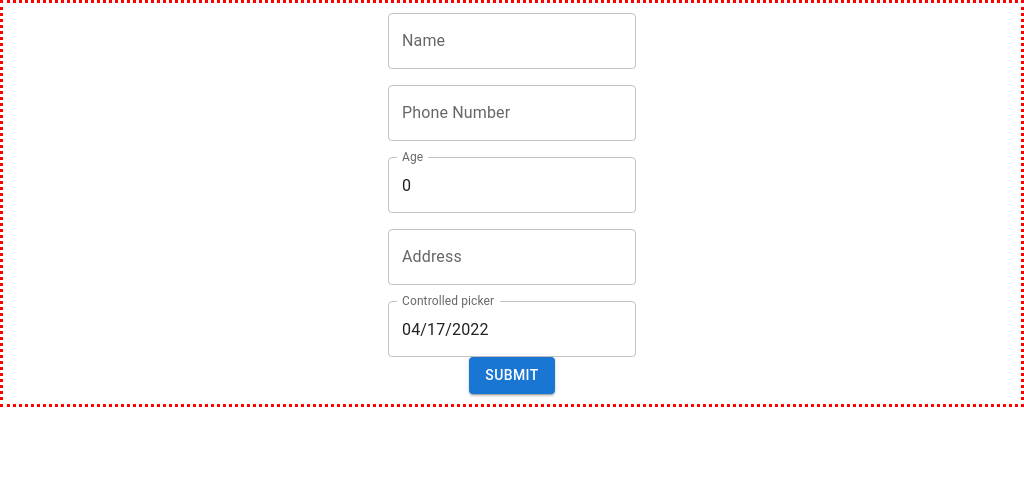
Test case: MyForm › should display validation errors when input value is invalid
This screenshot has width=1024, height=492.
In the field labelled "Name": (512,41) 388,13 -> 636,69, type "df"
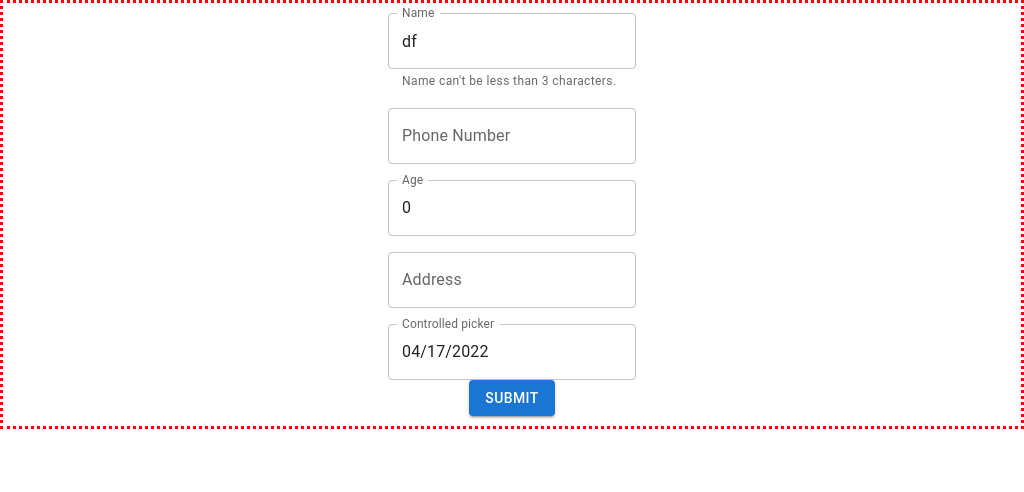
Expected: the text "Name can't be less than 3 characters." is shown, 402,72 -> 622,92
In the field labelled "Phone Number": (512,136) 388,108 -> 636,164, type "77878888"
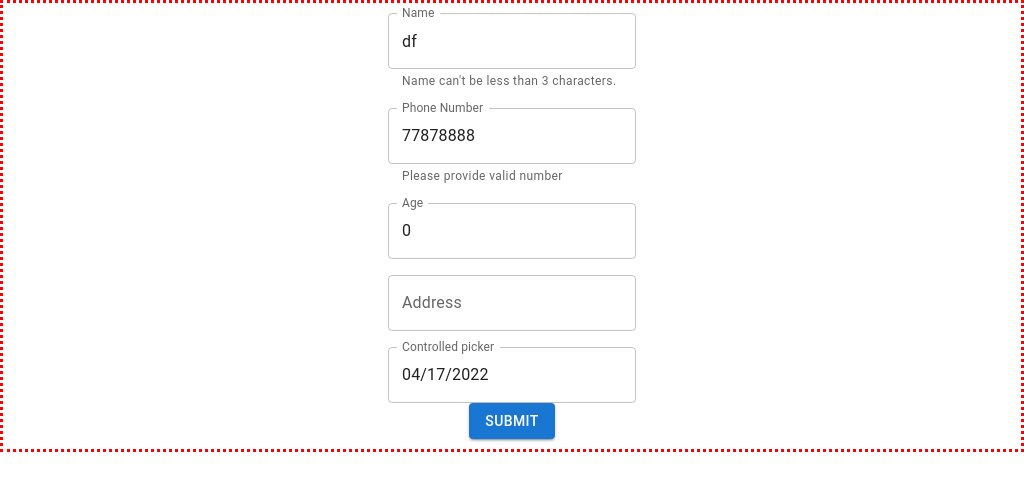
Expected: the text "Please provide valid number" is shown, 402,169 -> 563,183
Replace the text in the field labelled "Age" with "-2": (512,231) 388,203 -> 636,259
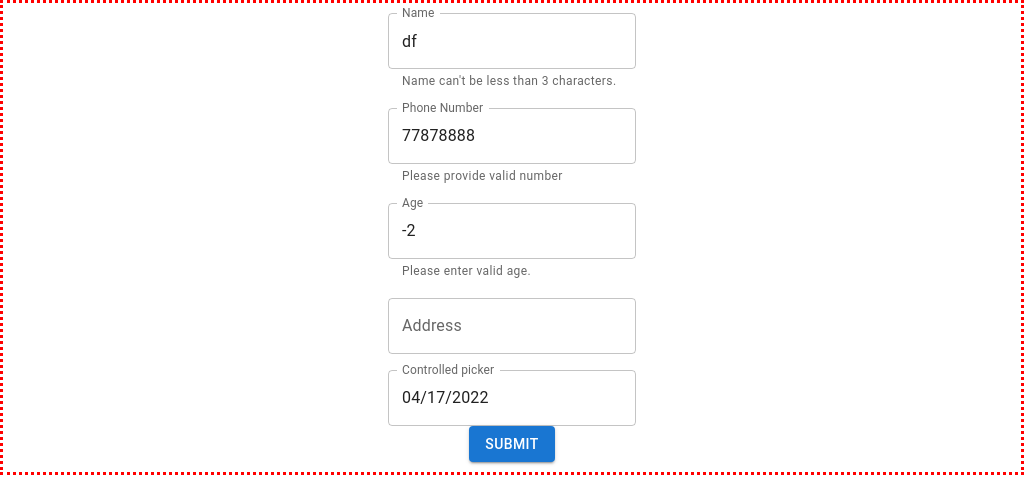
Expected: the text "Please enter valid age." is shown, 402,264 -> 531,278
